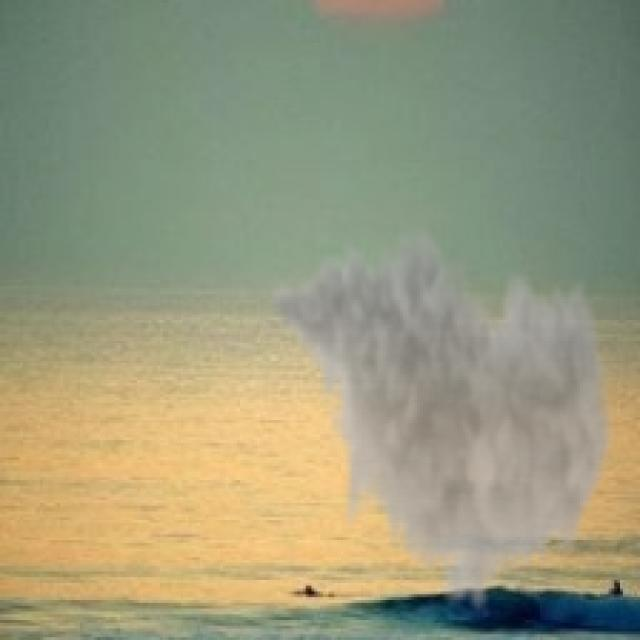smoke: (266, 217, 617, 620)
